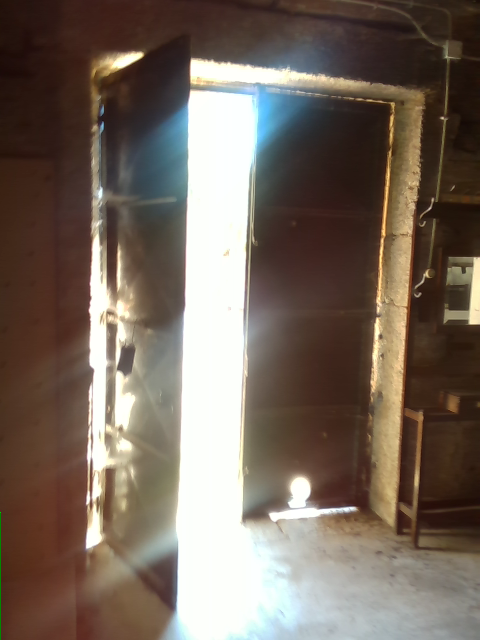semi: (90, 53, 429, 609)
